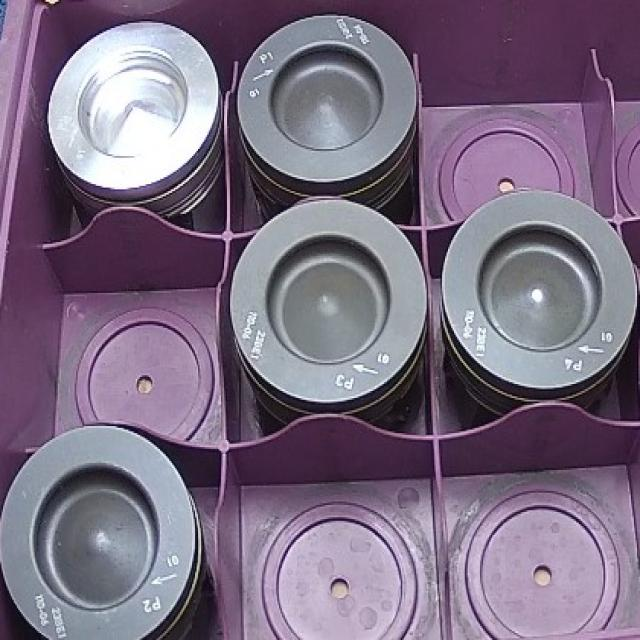P1: (51, 15, 219, 209), (239, 10, 426, 183)
P2: (0, 434, 213, 634)
P3: (236, 198, 437, 419)
P4: (440, 194, 634, 392)
